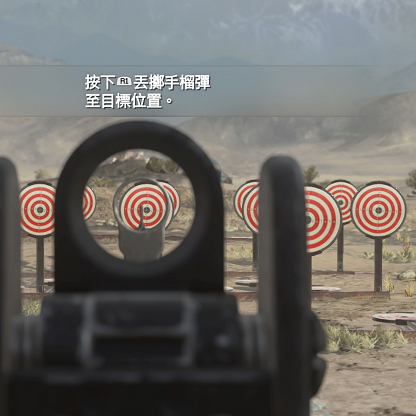target: (350, 182, 407, 239), (119, 182, 173, 229), (306, 185, 342, 254), (20, 182, 54, 237)
